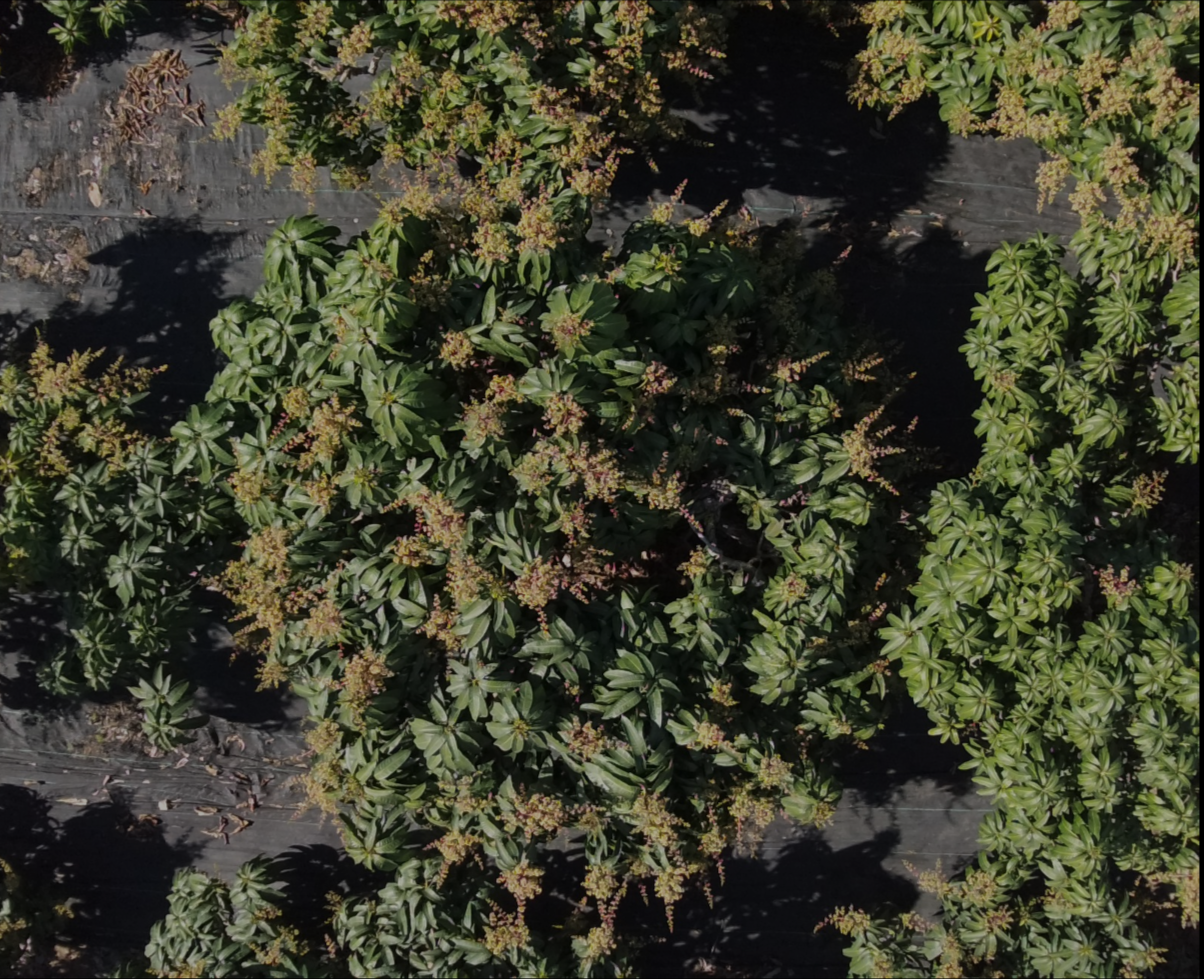flowers: (511, 439, 645, 627), (213, 0, 318, 195), (220, 526, 344, 687), (688, 278, 818, 403), (390, 487, 506, 609), (460, 132, 564, 263), (510, 392, 627, 503), (379, 170, 513, 264), (1082, 35, 1199, 136), (1068, 180, 1199, 269), (629, 790, 708, 930), (530, 85, 621, 198), (436, 784, 606, 839), (848, 0, 927, 118), (903, 860, 1013, 932), (37, 405, 144, 477), (366, 49, 461, 129), (806, 574, 889, 660), (1115, 845, 1198, 928), (586, 0, 652, 104), (949, 85, 1069, 142), (295, 719, 361, 815), (281, 393, 361, 470), (324, 646, 393, 730), (841, 404, 904, 495), (436, 0, 547, 49), (294, 0, 373, 67), (663, 0, 726, 78), (647, 452, 704, 536), (29, 339, 101, 403), (462, 373, 521, 447), (1003, 23, 1071, 84), (624, 360, 676, 430), (729, 787, 776, 858), (933, 933, 1005, 978), (94, 356, 166, 400), (226, 438, 270, 505), (561, 718, 628, 760), (687, 720, 749, 765), (408, 249, 451, 311), (482, 902, 530, 956), (416, 594, 460, 651), (541, 310, 594, 356), (249, 926, 308, 967), (496, 860, 543, 911), (429, 829, 482, 874), (1100, 133, 1142, 188), (438, 330, 494, 370), (1034, 154, 1070, 211), (1094, 565, 1138, 609), (271, 386, 309, 435), (543, 393, 586, 435), (699, 795, 727, 858), (227, 467, 274, 504), (683, 198, 728, 236), (763, 571, 808, 608), (650, 178, 687, 223), (1130, 470, 1168, 512), (185, 0, 246, 26), (1118, 946, 1165, 978), (820, 908, 870, 937), (302, 474, 337, 514), (327, 313, 352, 365), (841, 352, 883, 382), (756, 754, 791, 788), (210, 103, 242, 140), (329, 106, 365, 138), (677, 547, 714, 578), (1166, 0, 1199, 33), (1043, 0, 1080, 29), (149, 959, 205, 978), (329, 165, 370, 190), (708, 679, 737, 707), (899, 911, 934, 933), (983, 907, 1013, 932), (812, 801, 835, 830), (869, 952, 894, 978), (778, 489, 810, 507), (498, 307, 526, 326), (381, 141, 403, 165), (252, 903, 281, 921), (324, 890, 344, 915), (865, 656, 889, 676), (553, 0, 582, 16), (723, 0, 774, 9), (1172, 562, 1194, 582), (186, 0, 219, 9), (614, 966, 636, 978), (985, 969, 1005, 978)
